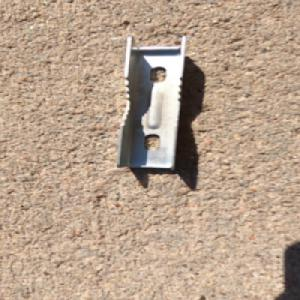ClampPart: (113, 33, 192, 170)
